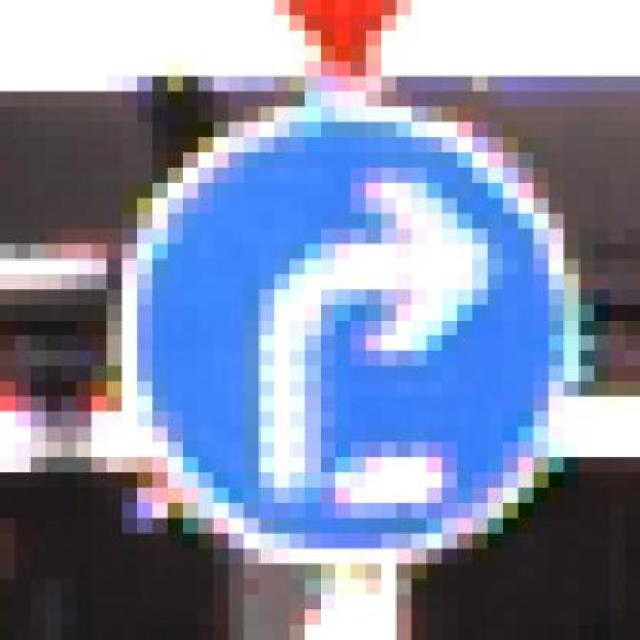Turn right ahead: (92, 76, 610, 564)
